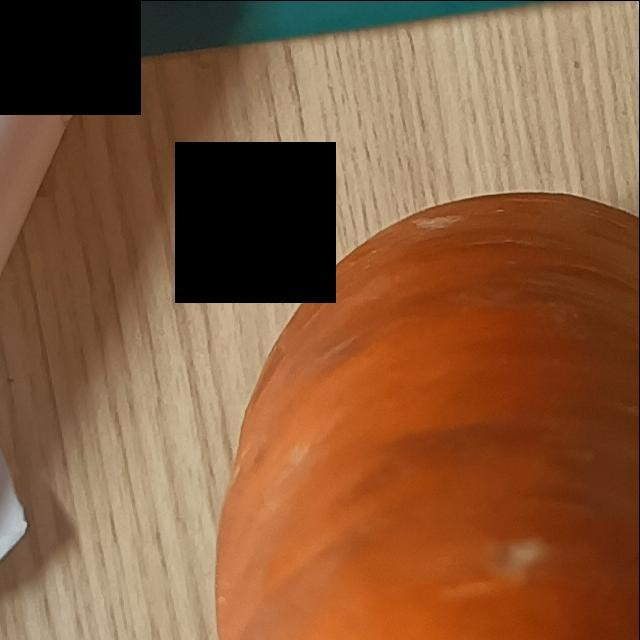carrot: (192, 187, 640, 640)
